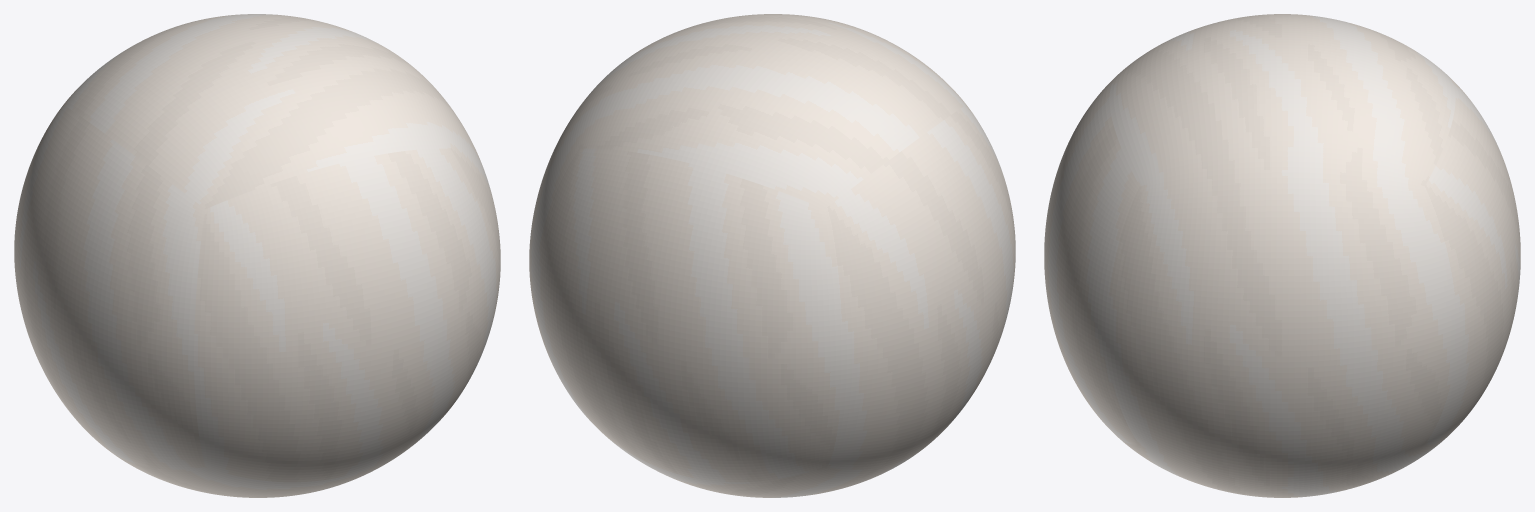
Rendered from quartz.fbx.
3 renders of one model, left to right at view 1: azimuth 30°, elevation 25°; view 2: azimuth 150°, elevation 25°; view 3: azimuth 270°, elevation 25°, orthographic.
Visible parts, largest first — view 1: Cube; view 2: Cube; view 3: Cube.
Part boxes in pixels (left/top/right/bottom): Cube: left=14, top=14, right=500, bottom=497; Cube: left=529, top=14, right=1015, bottom=497; Cube: left=1044, top=14, right=1520, bottom=497.
Size of the model in its own units: 168 by 168 by 168.
